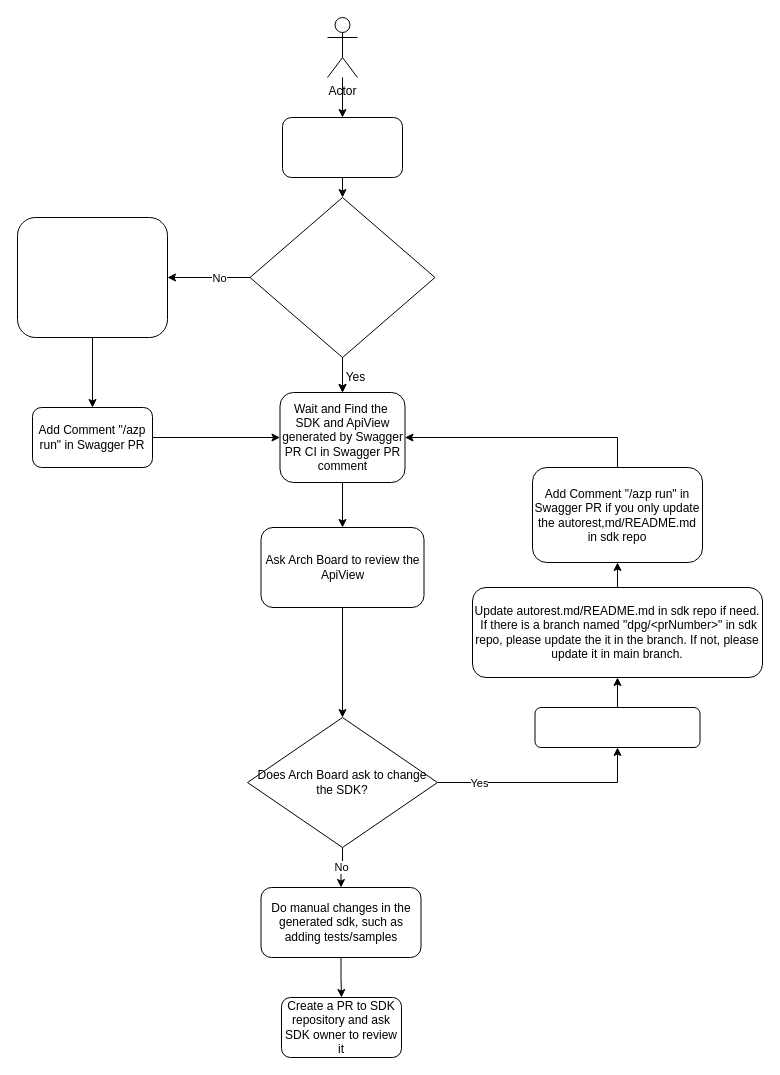
Some shapes in this 780 by 1075 pixel diagram are drawn without their labels. The centre of each missing label's shape, as x and y in pixels:
Create branch "dpg/<prNumber>" and add autorest.md/README.md to the branch: (x=92, y=277)
Has the service onboarded DPG before?: (x=342, y=277)
Swagger PR: (x=342, y=147)
Update Swagger if needed: (x=617, y=727)
